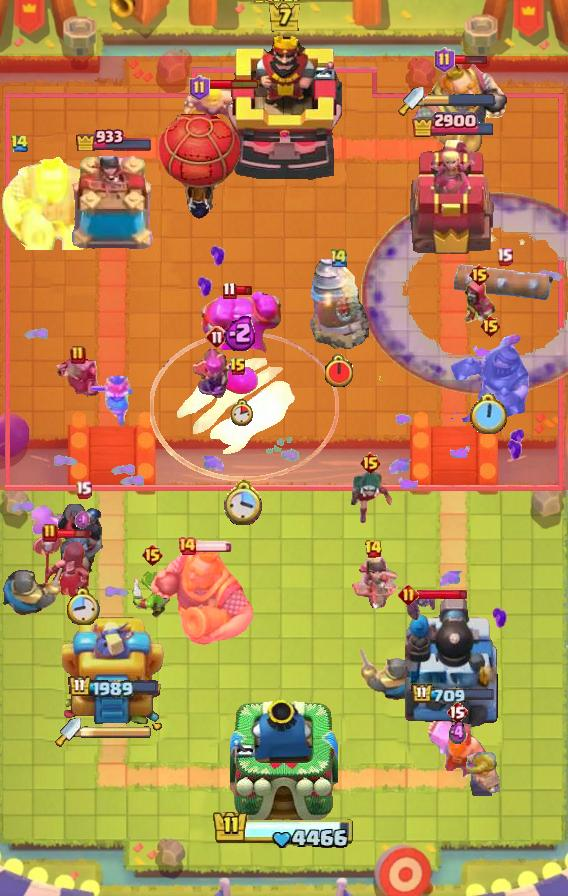archer: (183, 84, 239, 126)
bar: (62, 611, 166, 731), (409, 138, 497, 256)
barbarian-barrel: (404, 592, 436, 622)
battle-ram: (55, 355, 101, 401)
bowler: (461, 278, 497, 326)
cannon-cart: (156, 101, 242, 219)
clock: (212, 809, 356, 851)
clone: (198, 291, 284, 377)
electro-spirit: (224, 314, 258, 351), (449, 720, 467, 746), (75, 510, 91, 530)
elixir: (223, 479, 264, 525), (470, 393, 509, 437), (66, 587, 100, 625), (323, 355, 355, 390), (230, 398, 253, 425)
emote: (416, 587, 468, 600), (208, 78, 261, 90), (195, 540, 233, 552), (57, 527, 92, 540), (453, 54, 488, 65), (234, 285, 253, 296)
evolution-symbol: (192, 346, 242, 402)
firecracker: (357, 648, 429, 703), (1, 568, 63, 616)
giant-skeleton: (407, 61, 515, 165), (149, 545, 255, 647), (0, 156, 110, 250)
goblin-giant: (464, 750, 500, 797)
hog-rider: (87, 374, 135, 428)
ice-wizard: (149, 331, 338, 481)
inferno-dragon: (52, 504, 114, 580)
king-tower: (226, 33, 342, 181), (230, 698, 338, 826)
king-tower-bar: (424, 93, 496, 107), (81, 725, 153, 739)
magic-archer: (309, 258, 369, 350)
mighty-miner: (424, 713, 490, 777)
miner: (218, 367, 258, 395)
minion: (454, 264, 554, 300)
queen-tower: (68, 156, 160, 256)
rascal-boy: (29, 533, 93, 605)
rocket: (360, 192, 567, 396)
royal-guardian: (450, 330, 530, 422)
selected: (68, 675, 160, 700), (412, 111, 497, 138), (74, 126, 154, 151), (412, 683, 497, 706)
skeleton-dragon: (347, 551, 399, 609)
tesla: (345, 469, 395, 523)
text: (205, 325, 229, 349), (468, 263, 491, 287), (478, 314, 501, 338), (358, 451, 381, 475), (141, 543, 164, 567), (433, 47, 454, 73), (190, 75, 211, 101), (446, 700, 468, 724), (398, 583, 419, 604), (329, 247, 349, 268), (177, 536, 197, 556), (365, 539, 384, 559), (10, 134, 29, 153), (229, 357, 247, 377), (495, 246, 513, 265), (70, 345, 86, 365), (42, 523, 58, 543), (75, 481, 92, 499), (223, 281, 238, 300)
tower-bar: (405, 595, 501, 731)
zap: (131, 571, 173, 619)
